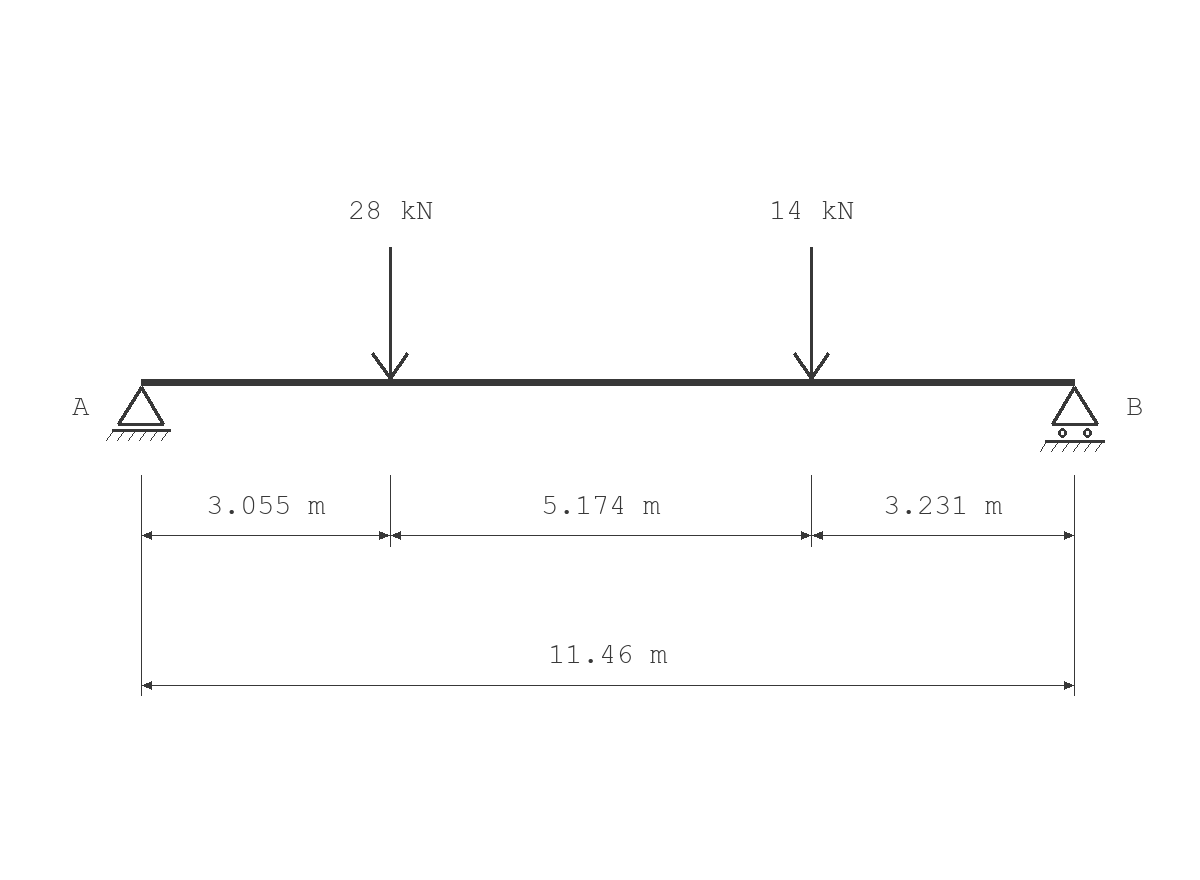pin_support: (106, 386, 171, 441)
point_load: (371, 247, 409, 380), (793, 247, 830, 380)
roller_support: (1040, 386, 1105, 452)
